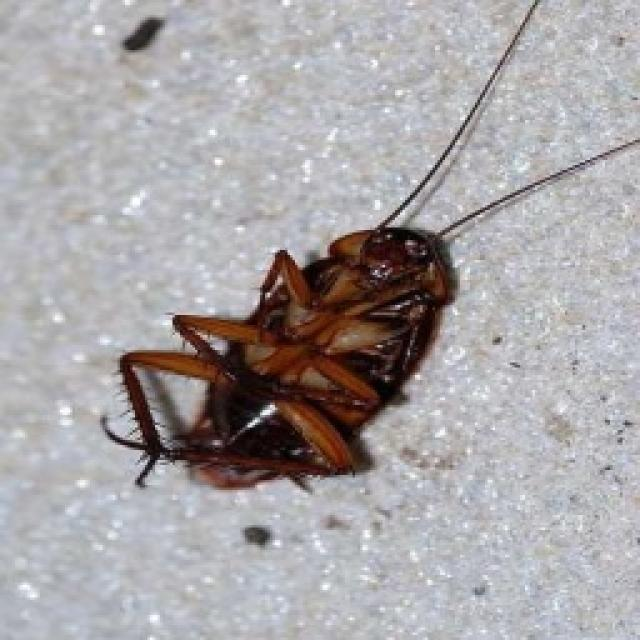cockroach: (112, 104, 564, 553)
